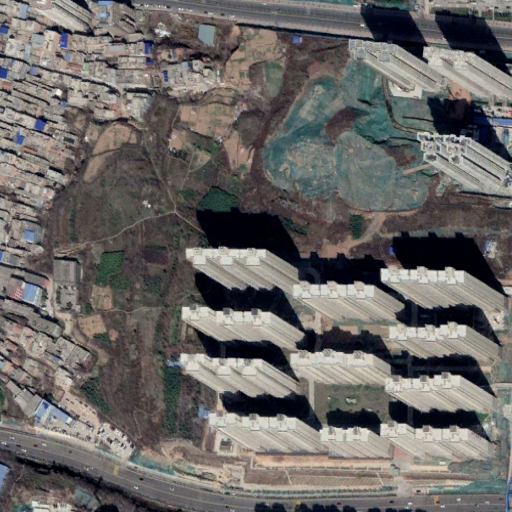cw: (265, 59, 433, 207)
